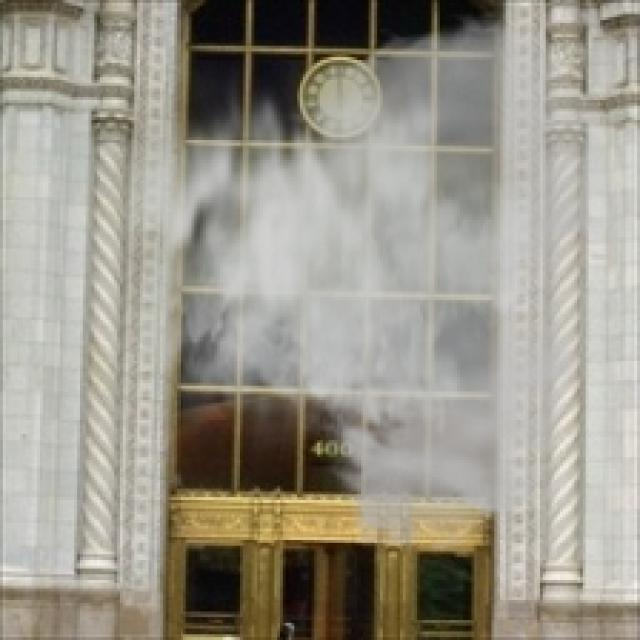Smoke: (94, 5, 617, 558)
